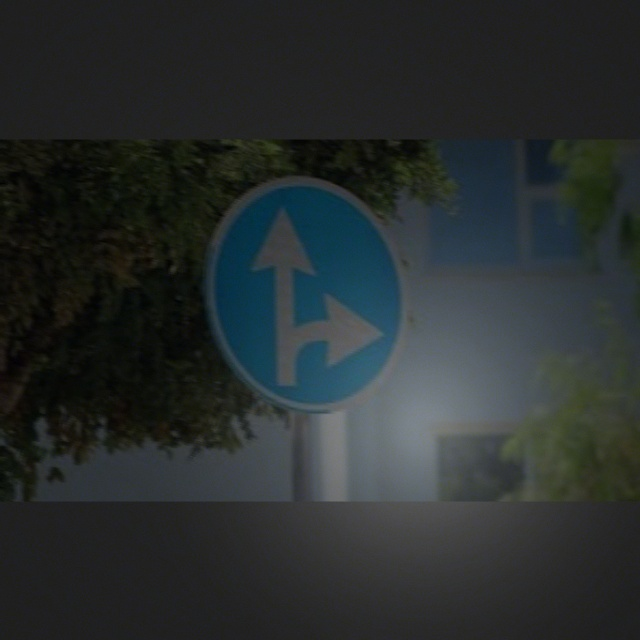Compulsory_Ahead_or_Turn_Right: (210, 176, 414, 414)
